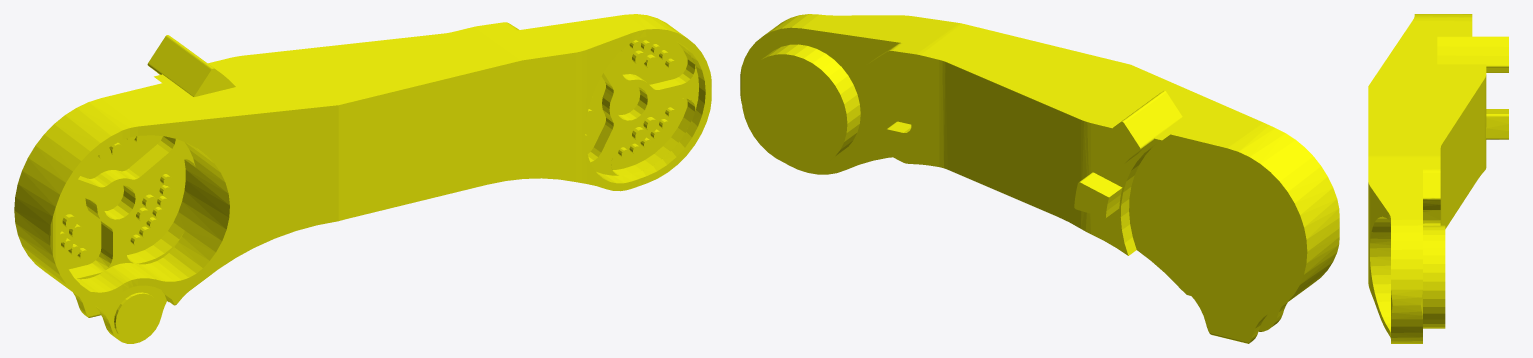
The picture shows the model from 3 angles, left to right: view 1: azimuth 30°, elevation 25°; view 2: azimuth 150°, elevation 25°; view 3: azimuth 270°, elevation 25°; orthographic projection. The views are drawn at different scales.
Parts seen in each view (by area): view 1: node; view 2: node; view 3: node.
Boxes of the visible parts, left/top/right/bottom form: node: left=14, top=14, right=711, bottom=343; node: left=740, top=14, right=1339, bottom=343; node: left=1368, top=14, right=1508, bottom=343.
Size of the model in its own units: 1431 by 515 by 370.
